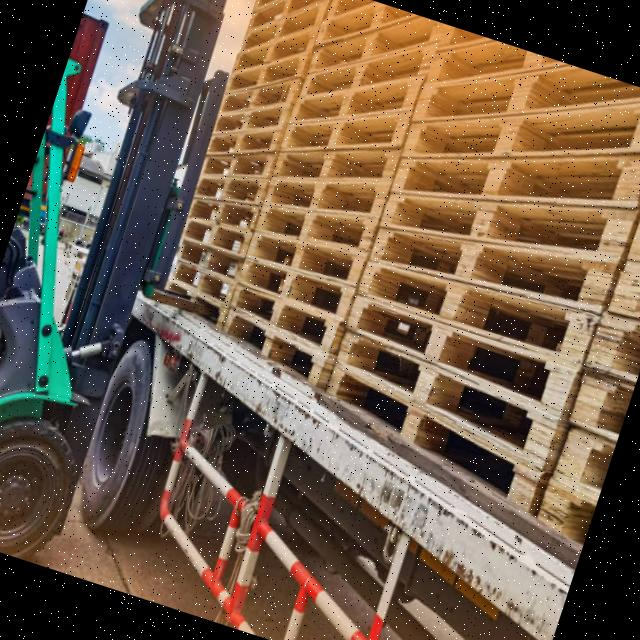Wooden-Pallets: (313, 355, 551, 531), (334, 285, 584, 426), (372, 189, 639, 272), (399, 103, 640, 159), (211, 302, 329, 392), (252, 172, 392, 227), (273, 110, 412, 157)
